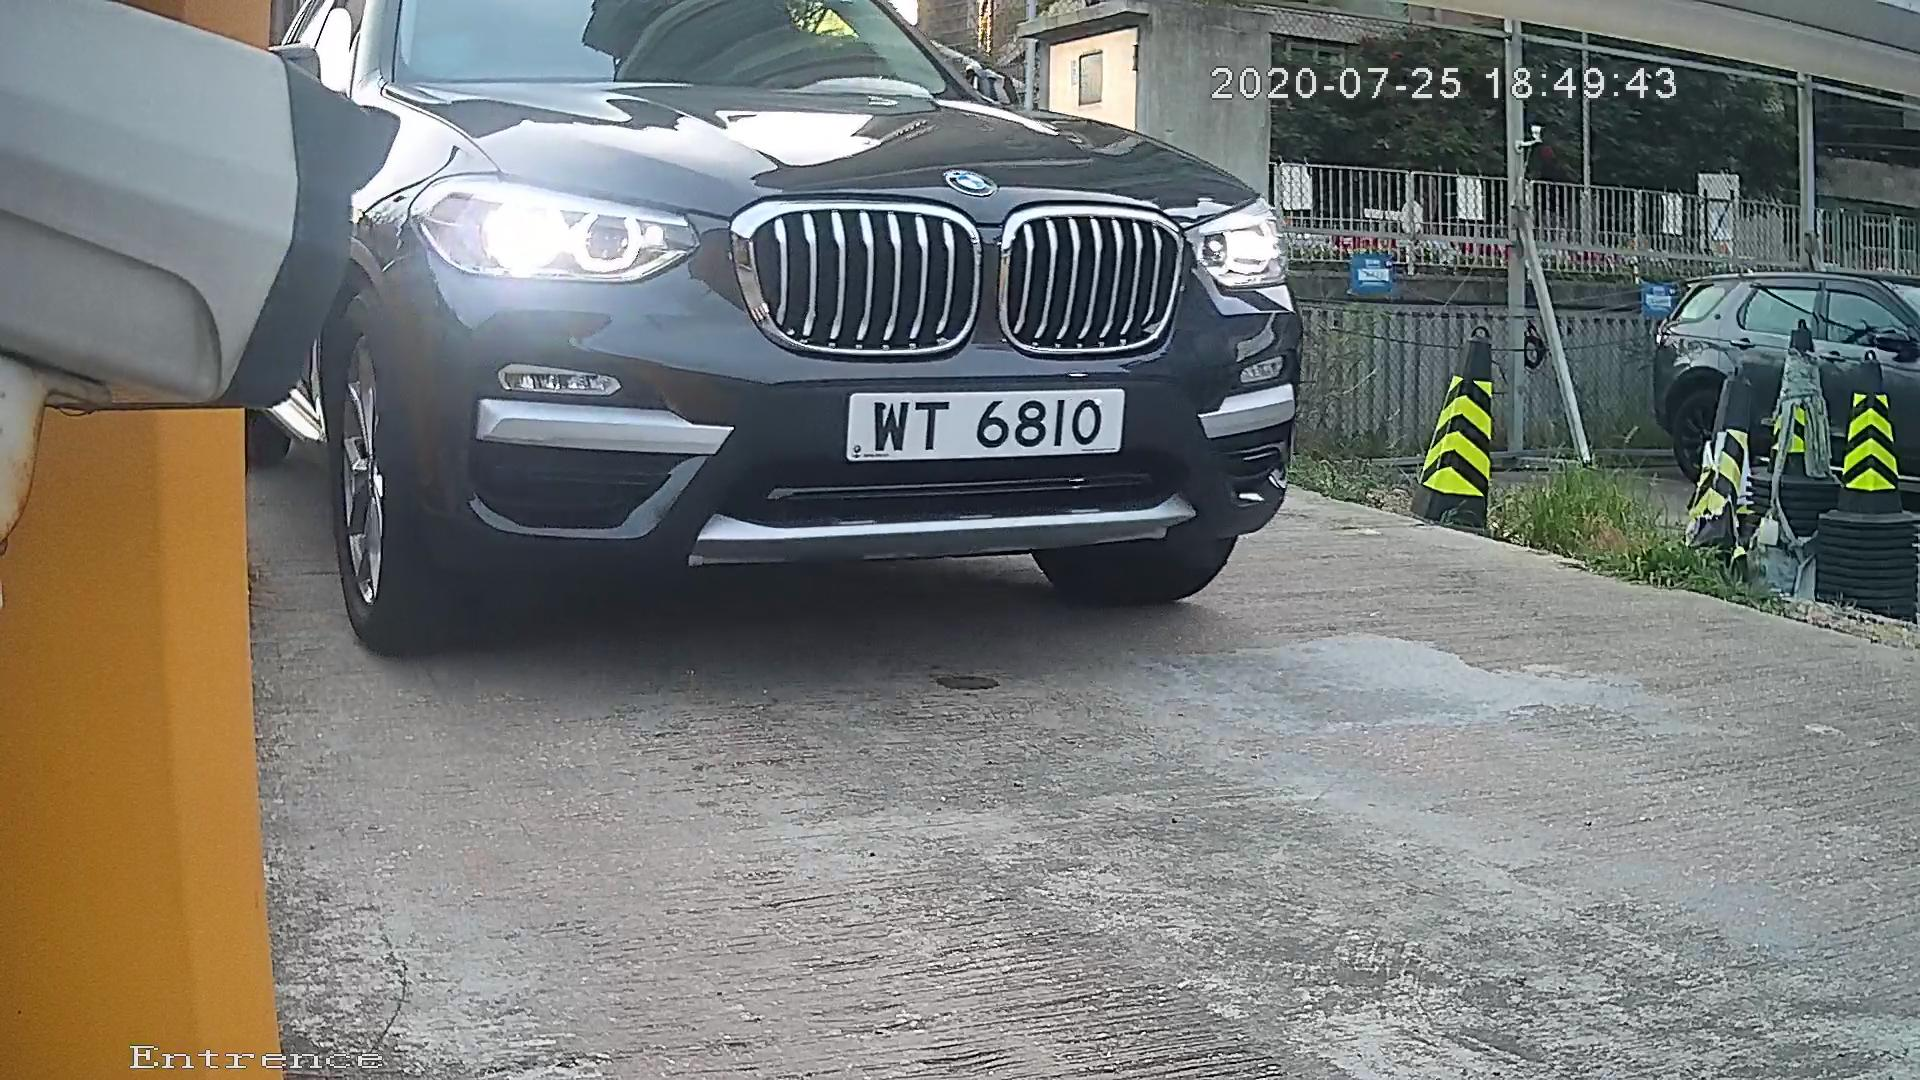License Plate: (798, 362, 1158, 473)
